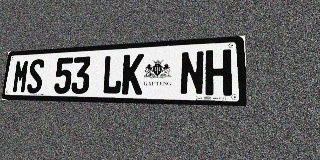3: (71, 56, 91, 94)
5: (54, 57, 73, 94)
H: (205, 49, 232, 96)
K: (121, 54, 144, 95)
L: (101, 55, 123, 94)
M: (12, 59, 30, 93)
N: (179, 50, 205, 95)
S: (26, 59, 45, 93)
